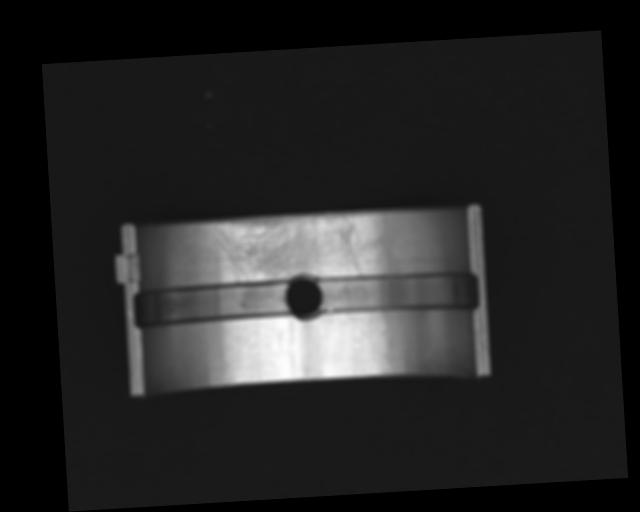gap: (316, 267, 479, 318), (131, 283, 291, 326)
hole: (286, 273, 323, 322)
scratch: (216, 211, 375, 284)
